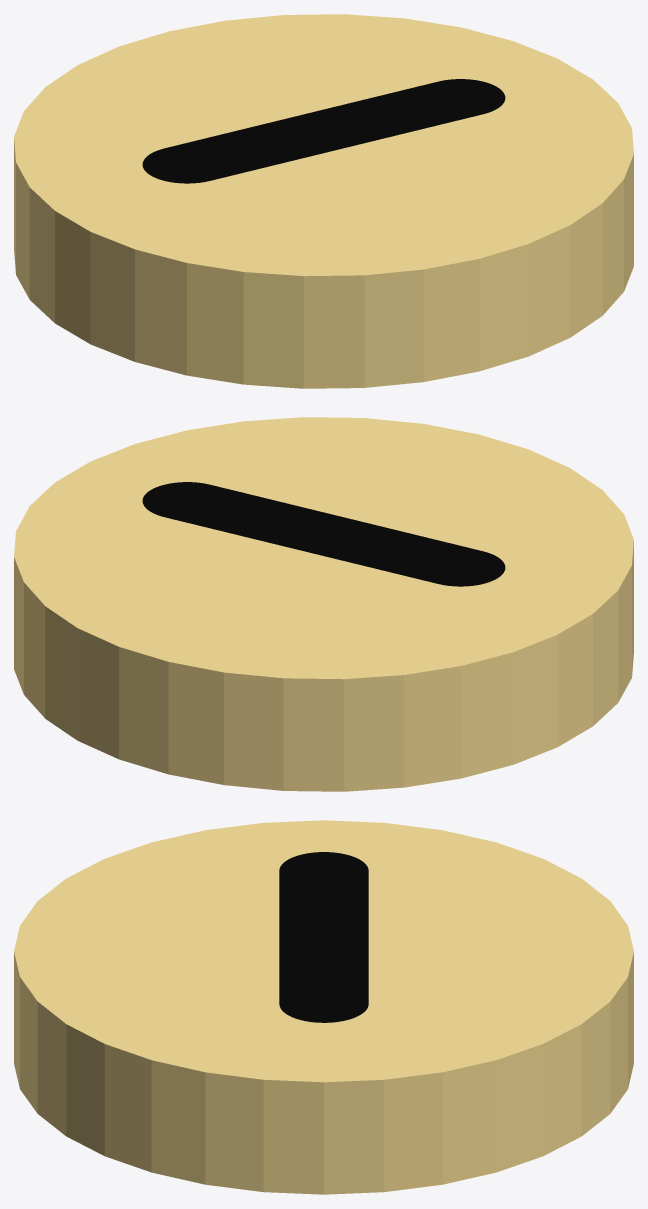
The model's file is minus-btn.glb.
3 renders of one model, top to bottom at view 1: azimuth 30°, elevation 25°; view 2: azimuth 150°, elevation 25°; view 3: azimuth 270°, elevation 25°, orthographic.
Visible parts, largest first — view 1: Cylinder, Curve.001; view 2: Cylinder, Curve.001; view 3: Cylinder, Curve.001.
Part boxes in pixels (x1=…): Cylinder: x1=14, y1=14, x2=633, y2=388; Curve.001: x1=142, y1=79, x2=505, y2=183; Cylinder: x1=14, y1=417, x2=633, y2=791; Curve.001: x1=142, y1=482, x2=505, y2=586; Cylinder: x1=14, y1=820, x2=633, y2=1194; Curve.001: x1=279, y1=852, x2=368, y2=1022.
Size of the model in its own units: 0.0802 by 0.018 by 0.0802.
